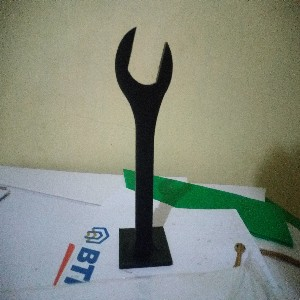spanner: (113, 27, 174, 270)
